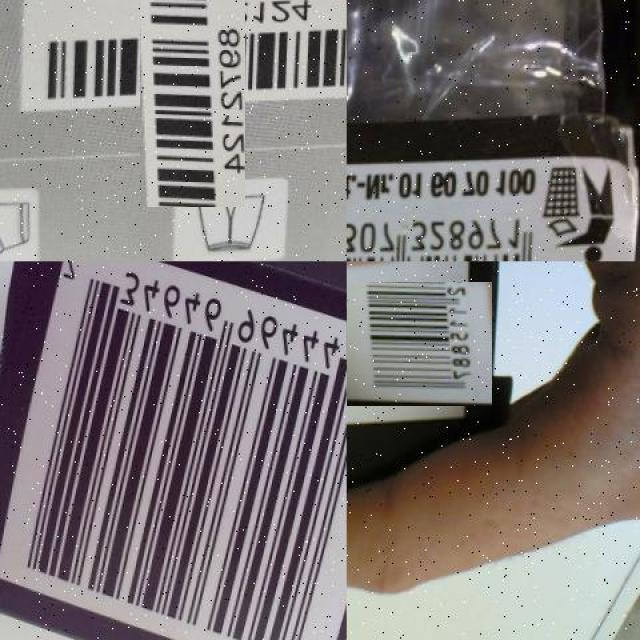Barcode: (0, 261, 347, 640), (89, 0, 296, 156), (337, 271, 482, 416), (347, 199, 545, 261)
